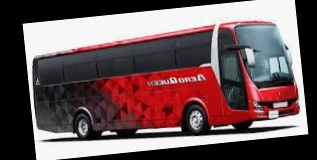bus: (30, 14, 299, 148)
